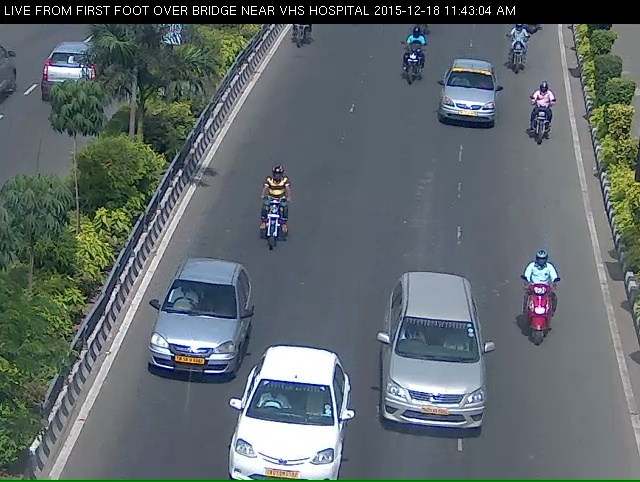Car: (375, 304, 490, 477), (129, 289, 245, 405), (231, 377, 337, 471), (436, 63, 509, 150)
Person: (521, 252, 558, 371), (245, 180, 286, 263), (524, 97, 556, 165), (389, 45, 430, 98), (503, 26, 532, 80), (281, 18, 311, 54)
